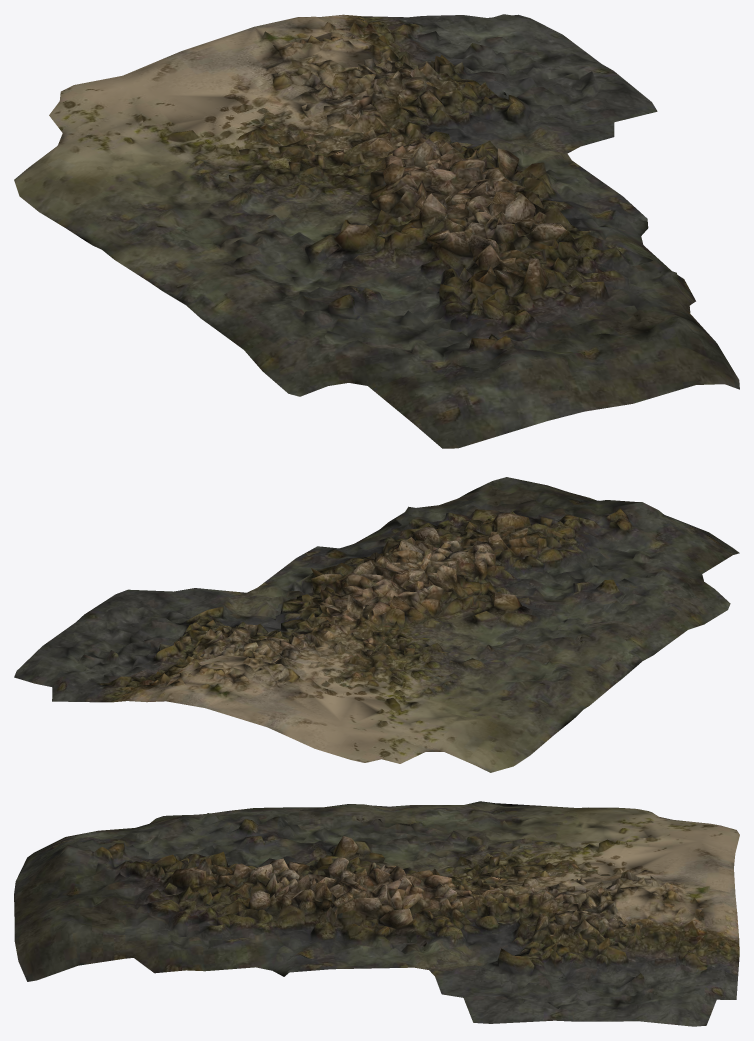
File: reef-rock-03.glb
3 views of the same model, one above another, from view 1: azimuth 30°, elevation 25°; view 2: azimuth 150°, elevation 25°; view 3: azimuth 270°, elevation 25° (orthographic). The views are drawn at different scales.
Visible parts, largest first — view 1: coast_rocks_03; view 2: coast_rocks_03; view 3: coast_rocks_03.
Boxes of the visible parts, <box> form: coast_rocks_03: <box>14,14,739,448</box>; coast_rocks_03: <box>14,477,739,772</box>; coast_rocks_03: <box>14,801,739,1026</box>.
Size of the model in its own units: 21.11 by 3.2 by 28.26.
Materials: 1 (1 with a texture image).
